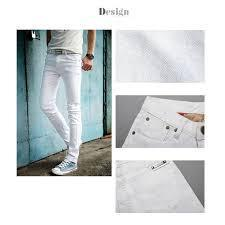pants: (40, 52, 84, 160)
